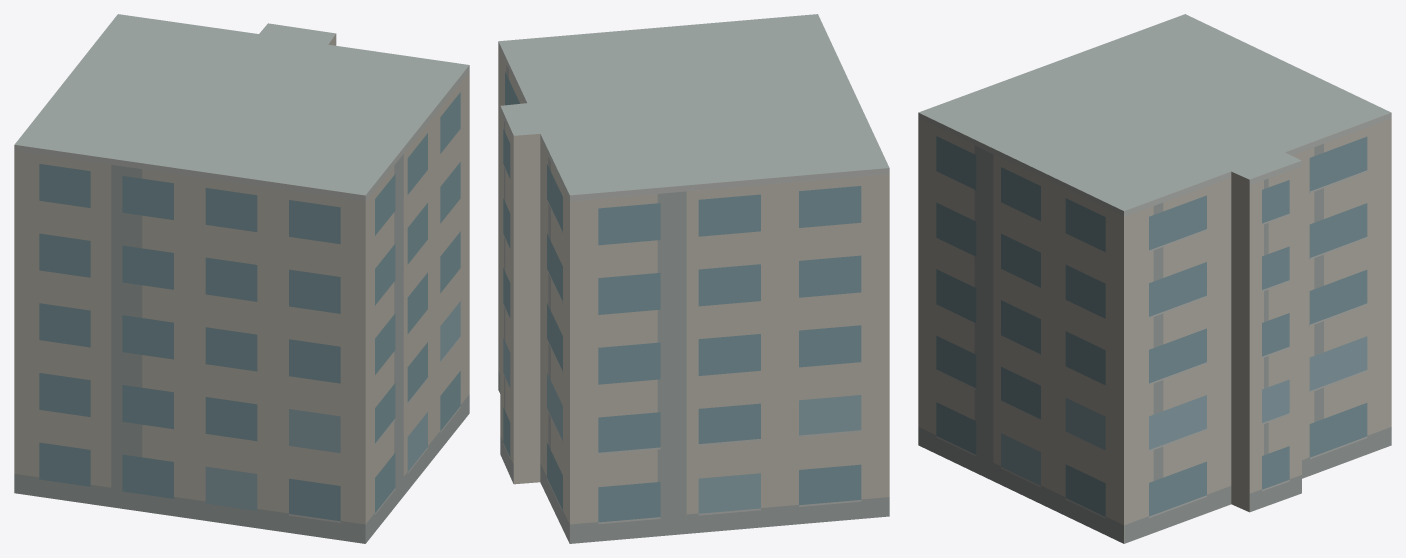
Rendered from survey-upis-32970601.glb.
The picture shows the model from 3 angles, left to right: view 1: azimuth 30°, elevation 25°; view 2: azimuth 150°, elevation 25°; view 3: azimuth 270°, elevation 25°; orthographic projection. The views are drawn at different scales.
Visible parts, largest first — view 1: survey-upis-32970601.tmp; view 2: survey-upis-32970601.tmp; view 3: survey-upis-32970601.tmp.
Boxes of the visible parts, box(x1,y1,x2,y2) form: survey-upis-32970601.tmp: box(14, 14, 469, 543); survey-upis-32970601.tmp: box(498, 14, 889, 543); survey-upis-32970601.tmp: box(918, 14, 1391, 543).
Bounding box in the file's own units: 17.93 × 14.1 × 18.19.
